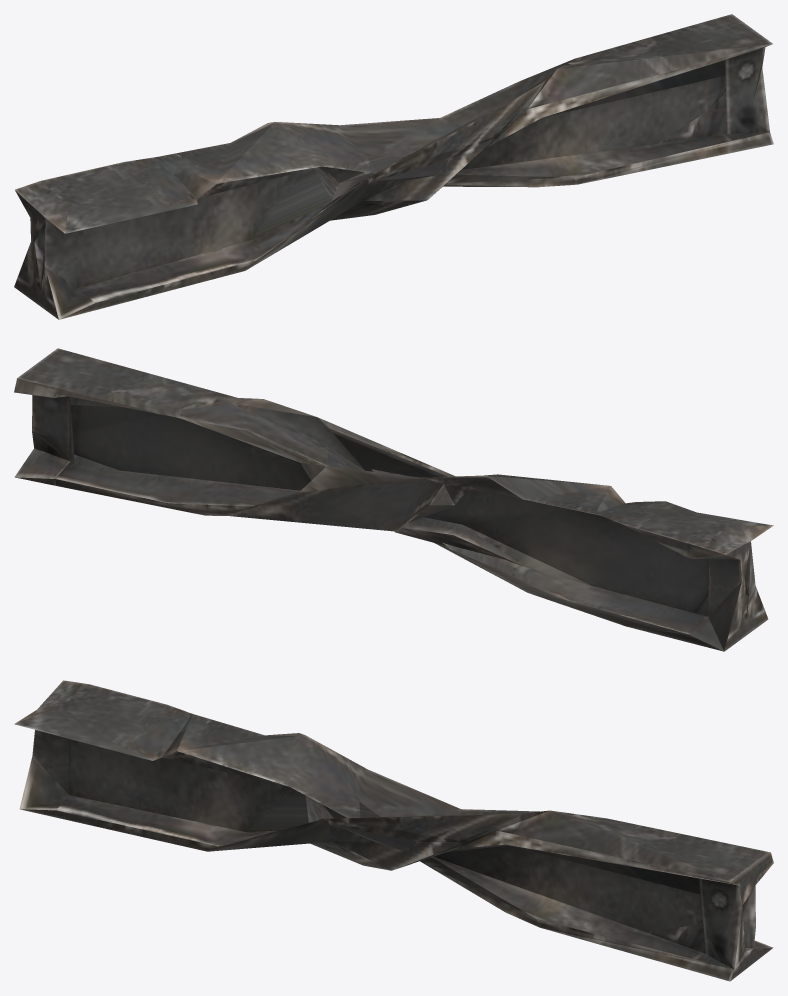
File: shared_rubble_kit__girder_long_bent_lod2.glb
3 renders of one model, top to bottom at view 1: azimuth 30°, elevation 25°; view 2: azimuth 150°, elevation 25°; view 3: azimuth 330°, elevation 25°, orthographic.
Visible parts, largest first — view 1: mesh_node; view 2: mesh_node; view 3: mesh_node.
Part boxes in pixels (x1,y1,x2,y2): mesh_node: [14, 14, 773, 319]; mesh_node: [14, 348, 773, 651]; mesh_node: [14, 680, 773, 981].
Bounding box in the file's own units: 6.09 × 0.9025 × 0.759.
Materials: 1 (1 with a texture image).
